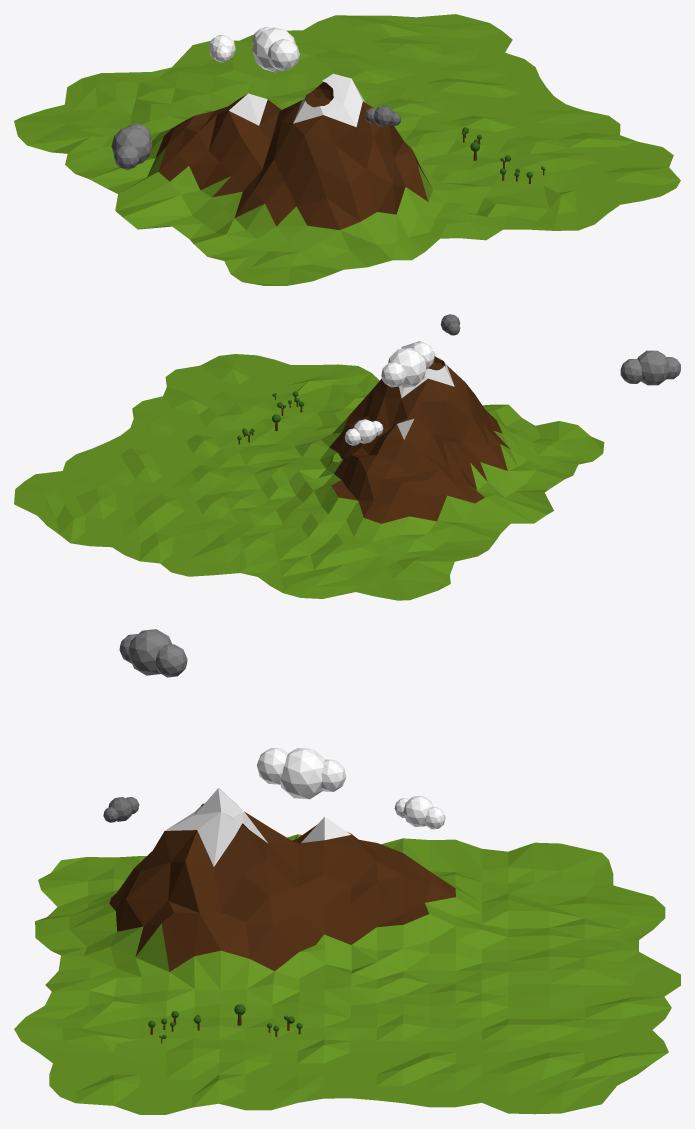
The model's file is mountain4.glb.
3 renders of one model, top to bottom at view 1: azimuth 30°, elevation 25°; view 2: azimuth 150°, elevation 25°; view 3: azimuth 270°, elevation 25°, orthographic. The views are drawn at different scales.
Visible parts, largest first — view 1: Plane.004, Mountain top.001, Mountain top.002, Plane, Plane.040, Plane.038, Plane.043; view 2: Plane.004, Plane, Plane.040, Mountain top.001, Plane.038, Mountain top.002; view 3: Plane.004, Plane, Mountain top.002, Mountain top.001, Plane.040, Plane.038.
Boxes of the visible parts, <box> form: Plane.004: <box>14,14,680,285</box>; Mountain top.001: <box>282,82,380,144</box>; Mountain top.002: <box>293,73,365,127</box>; Plane: <box>252,27,299,72</box>; Plane.040: <box>111,123,152,170</box>; Plane.038: <box>209,34,235,62</box>; Plane.043: <box>364,105,400,127</box>; Plane.004: <box>14,354,604,600</box>; Plane: <box>381,342,434,387</box>; Plane.040: <box>620,350,680,385</box>; Mountain top.001: <box>374,356,464,400</box>; Plane.038: <box>344,419,383,445</box>; Mountain top.002: <box>399,341,454,398</box>; Plane.004: <box>14,817,680,1114</box>; Plane: <box>257,748,346,799</box>; Mountain top.002: <box>165,788,267,866</box>; Mountain top.001: <box>164,803,272,874</box>; Plane.040: <box>119,629,187,677</box>; Plane.038: <box>394,796,445,829</box>.
Size of the model in its own units: 109 by 28.7 by 96.56.
